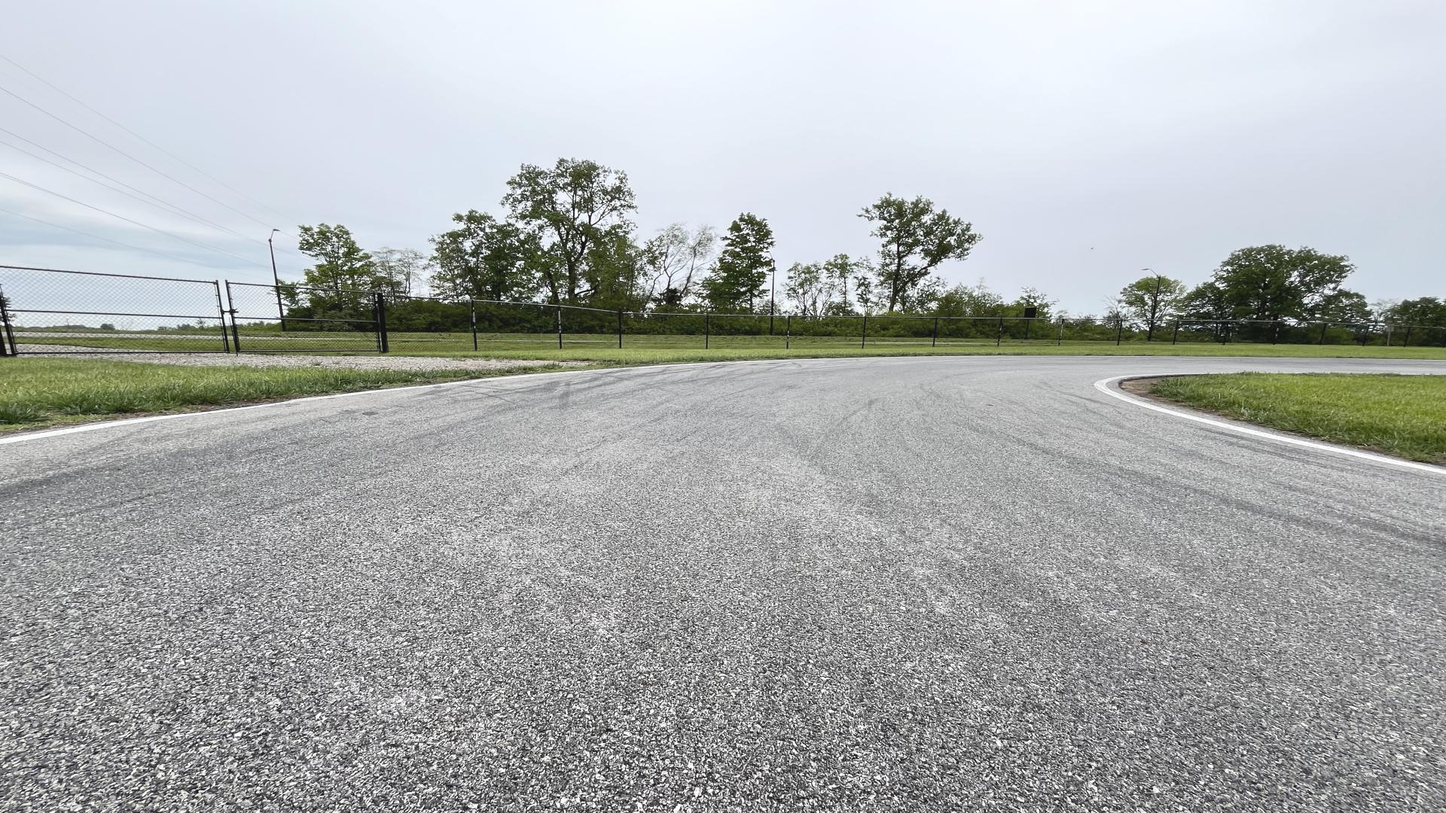white-line: (0, 355, 1158, 446), (1095, 370, 1445, 477)
